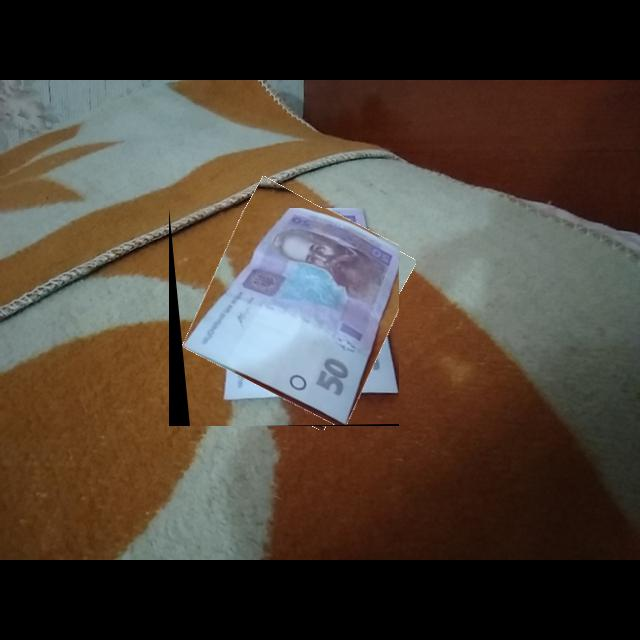50uah: (180, 208, 400, 425)
